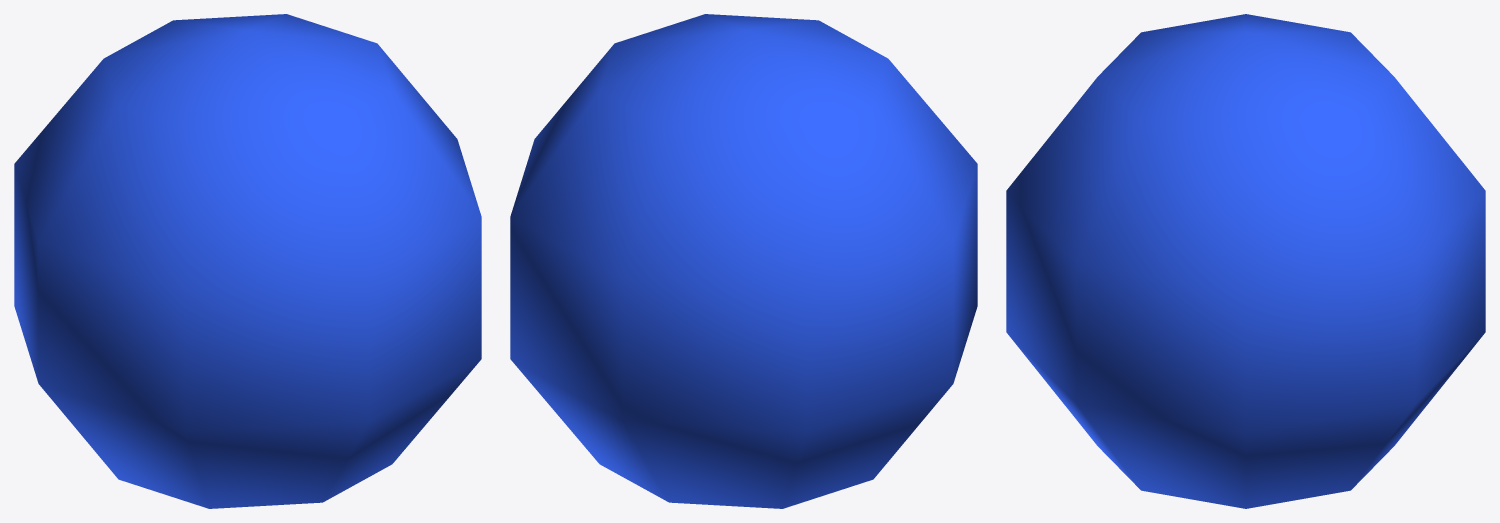
File: bne_afl_blue.dae
3 renders of one model, left to right at view 1: azimuth 30°, elevation 25°; view 2: azimuth 150°, elevation 25°; view 3: azimuth 270°, elevation 25°, orthographic.
Visible parts, largest first — view 1: glow2; view 2: glow2; view 3: glow2.
Boxes of the visible parts, box(x1,y1,x2,y2) form: glow2: box(14, 14, 481, 508); glow2: box(510, 14, 977, 508); glow2: box(1006, 14, 1485, 508).
Bounding box in the file's own units: 3.2 × 3.2 × 3.36.
